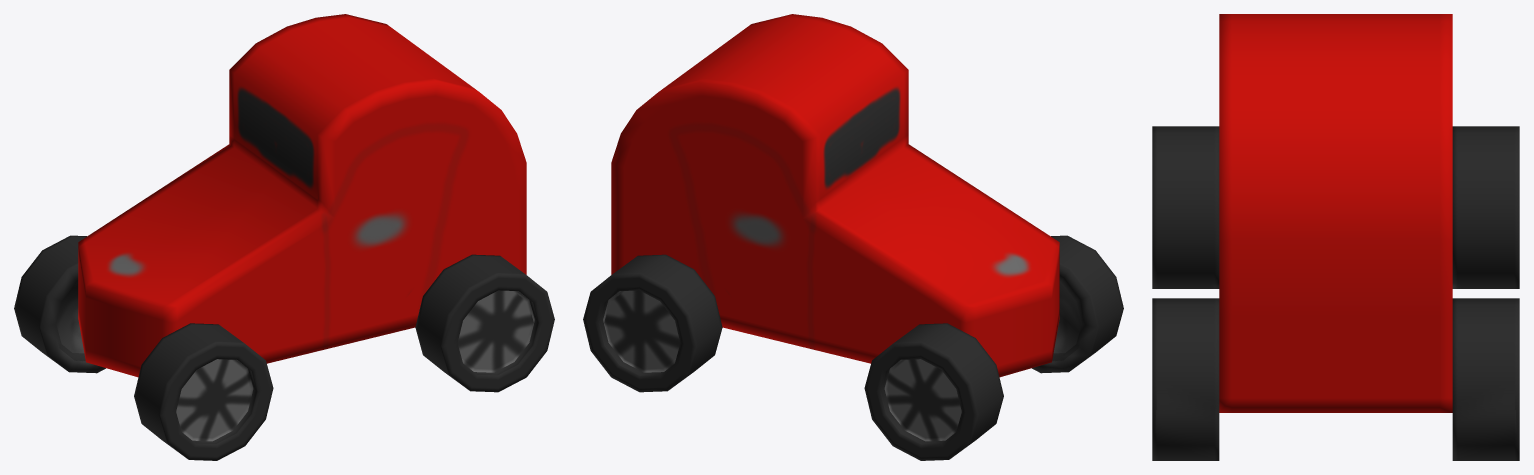
File: car.glb
The picture shows the model from 3 angles, left to right: view 1: azimuth 30°, elevation 25°; view 2: azimuth 150°, elevation 25°; view 3: azimuth 270°, elevation 25°; orthographic projection. The views are drawn at different scales.
Visible parts, largest first — view 1: Cube.009; view 2: Cube.009; view 3: Cube.009.
Boxes of the visible parts, left/top/right/bottom form: Cube.009: left=14, top=14, right=554, bottom=460; Cube.009: left=583, top=14, right=1123, bottom=460; Cube.009: left=1152, top=14, right=1519, bottom=460.
Bounding box in the file's own units: 2.51 × 1.83 × 1.61.
Materials: 1 (1 with a texture image).
